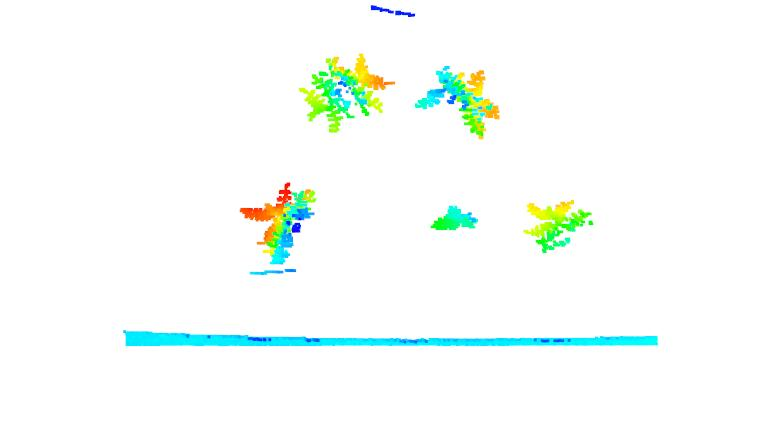chickpea: (295, 51, 392, 135), (237, 181, 317, 268), (415, 65, 501, 142), (523, 198, 595, 252), (429, 206, 482, 235)
